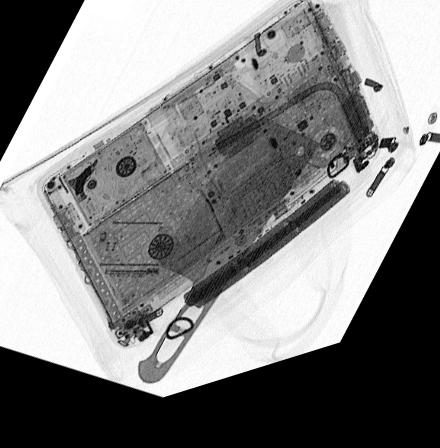Knife: (137, 126, 322, 394)
